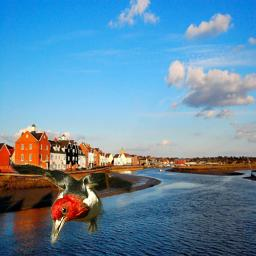Woodpecker: (3, 156, 136, 247)
